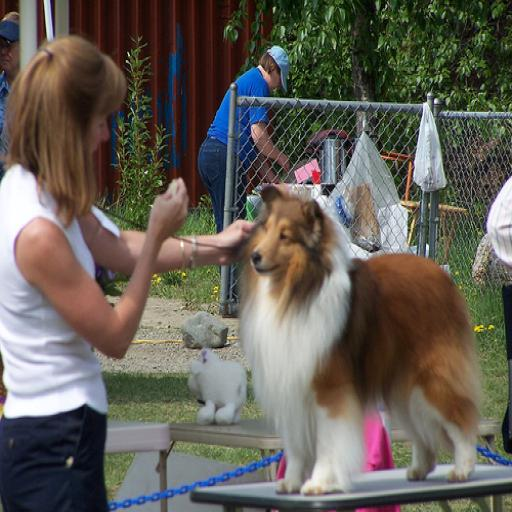dog_face: (248, 185, 332, 292)
